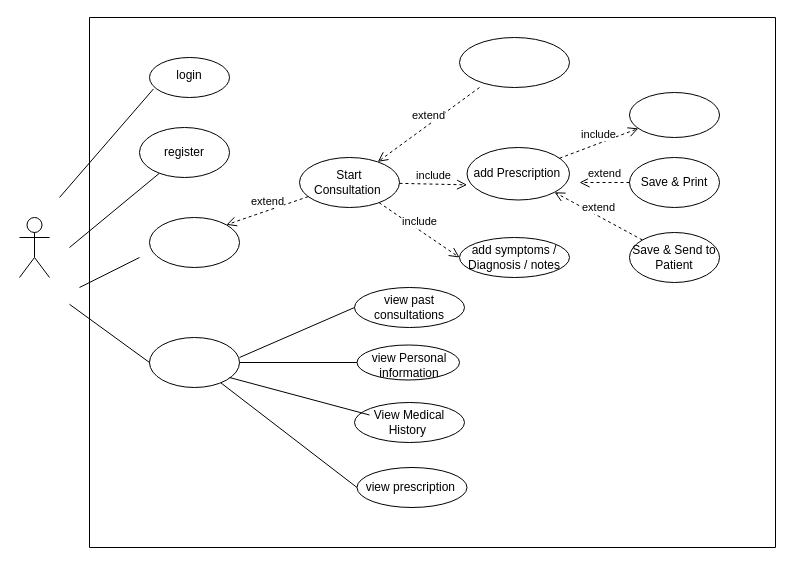
Some shapes in this 793 by 565 pixel diagram are drawn without their labels. The box of each missing label's shape, as (x1, y1, x2, y2) in pixels:
Doctor: (18, 216, 50, 278)
Edit medical history: (458, 36, 570, 88)
Save: (628, 92, 720, 138)
Search Bar: (148, 336, 240, 388)
Today`s Appointments: (148, 216, 240, 268)
